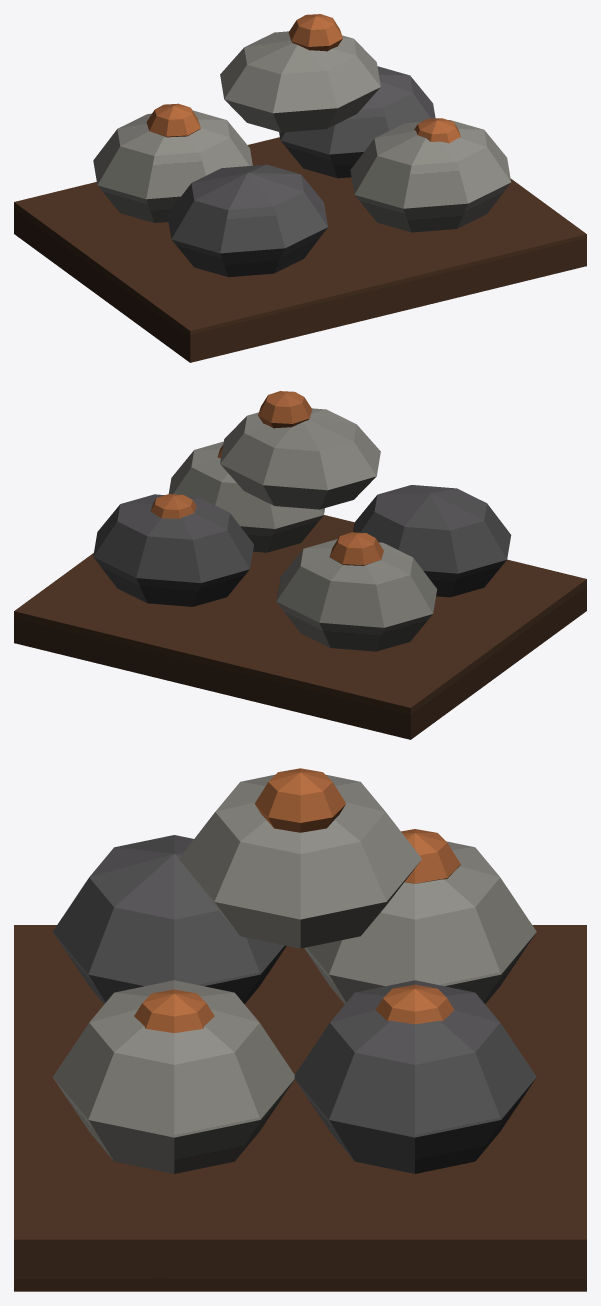
The model's file is ore_stockpile.glb.
The picture shows the model from 3 angles, top to bottom: view 1: azimuth 30°, elevation 25°; view 2: azimuth 150°, elevation 25°; view 3: azimuth 270°, elevation 25°; orthographic projection. The views are drawn at different scales.
Size of the model in its own units: 1.3 by 0.72 by 1.
1 material, 1 textured.
